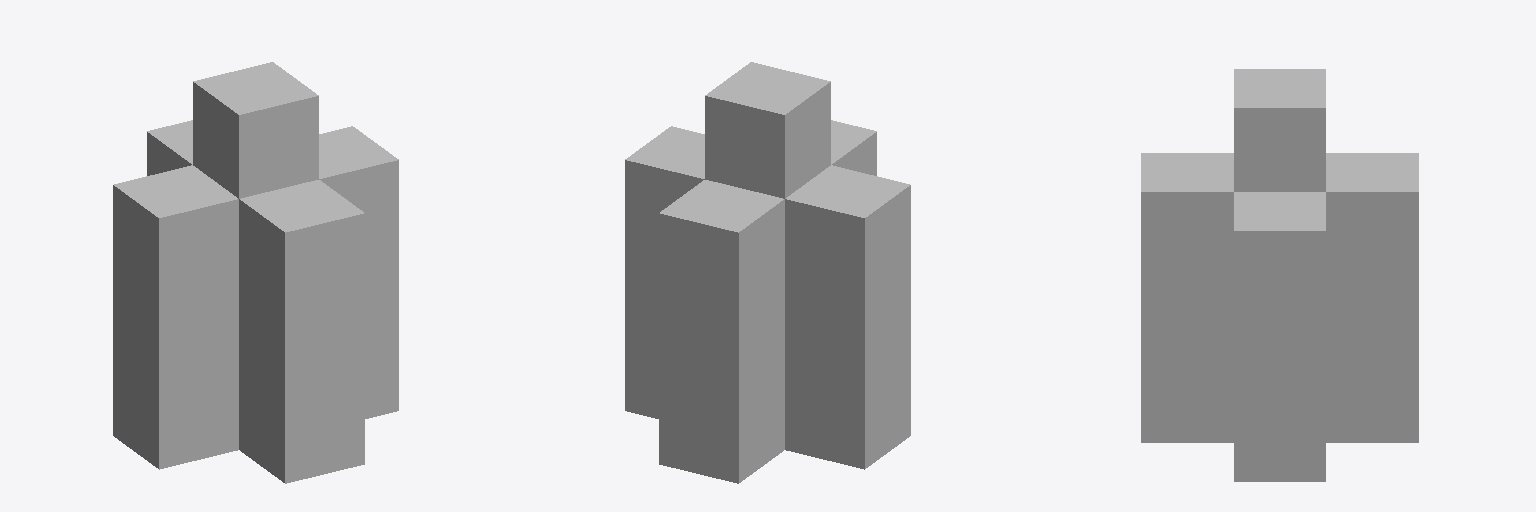
File: TNT.obj
3 renders of one model, left to right at view 1: azimuth 30°, elevation 25°; view 2: azimuth 150°, elevation 25°; view 3: azimuth 270°, elevation 25°, orthographic.
Visible parts, largest first — view 1: object 1; view 2: object 1; view 3: object 1.
Boxes of the visible parts, <box> form: object 1: <box>113,62,398,483</box>; object 1: <box>625,62,910,483</box>; object 1: <box>1141,69,1418,481</box>.
Bounding box in the file's own units: 0.3 × 0.4 × 0.3.